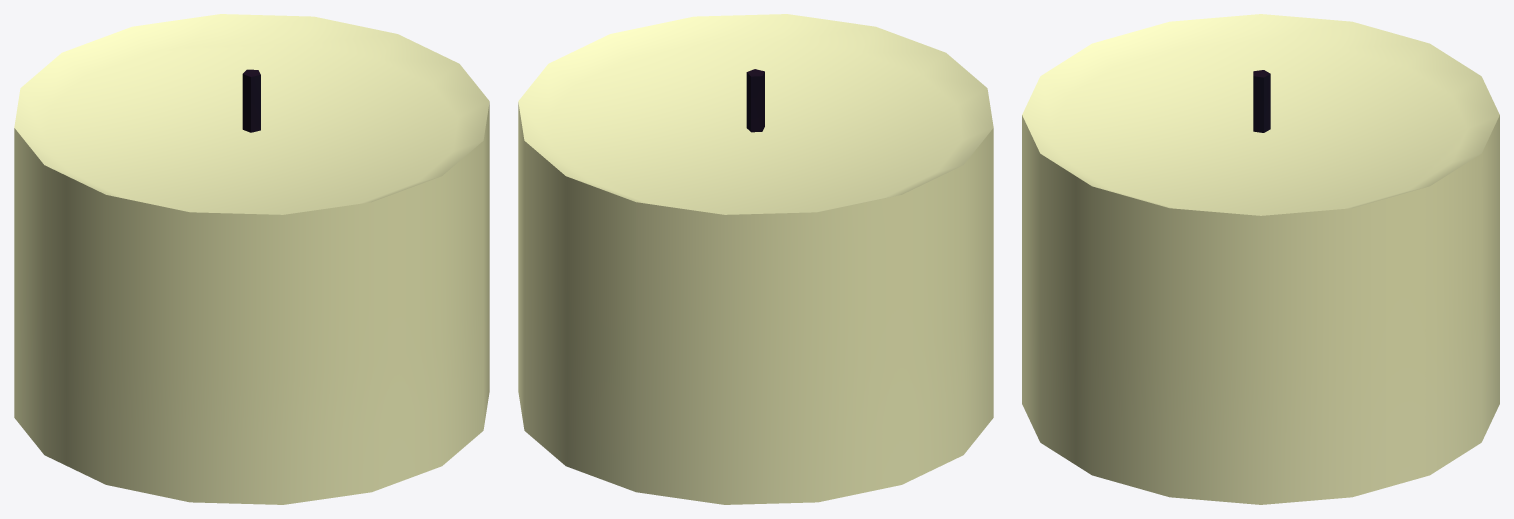
Rendered from Candle 2.fbx.
The picture shows the model from 3 angles, left to right: view 1: azimuth 30°, elevation 25°; view 2: azimuth 150°, elevation 25°; view 3: azimuth 270°, elevation 25°; orthographic projection.
Visible parts, largest first — view 1: Cylinder.002; view 2: Cylinder.002; view 3: Cylinder.002.
Boxes of the visible parts, x1,y1,x2,y2 form: Cylinder.002: (14, 14, 489, 504); Cylinder.002: (518, 14, 993, 504); Cylinder.002: (1022, 14, 1499, 504).
Bounding box in the file's own units: 174 × 133 × 174.
1 material, 1 textured.
